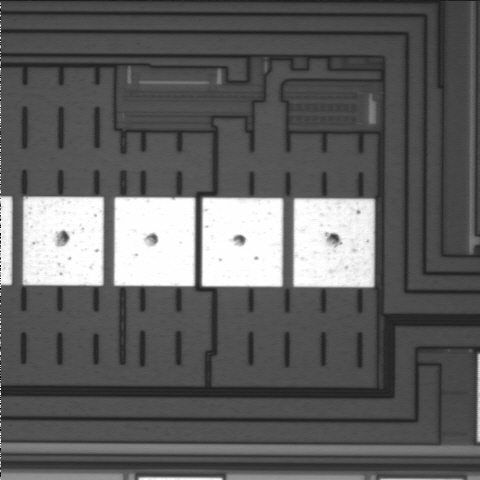pad: (293, 198, 375, 287), (23, 197, 104, 286), (114, 197, 195, 286), (202, 198, 283, 287)
